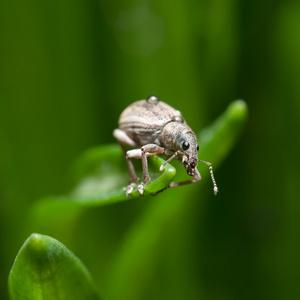Curculionidae: (112, 95, 218, 199)
